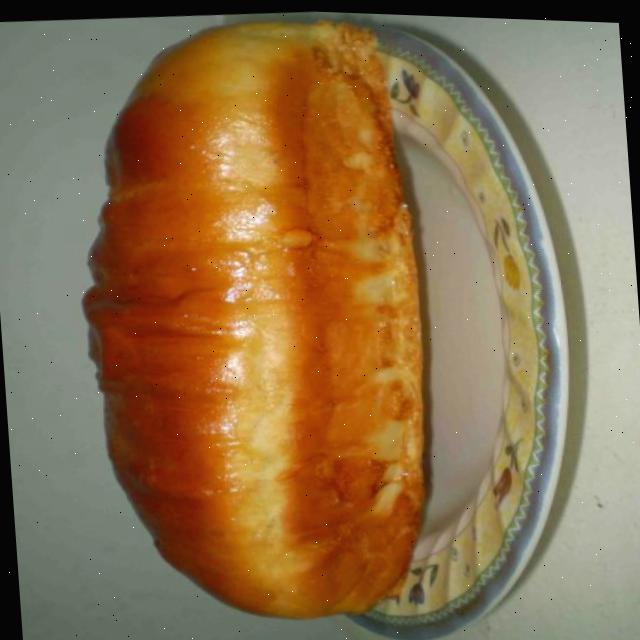三明治: (28, 1, 463, 640)
